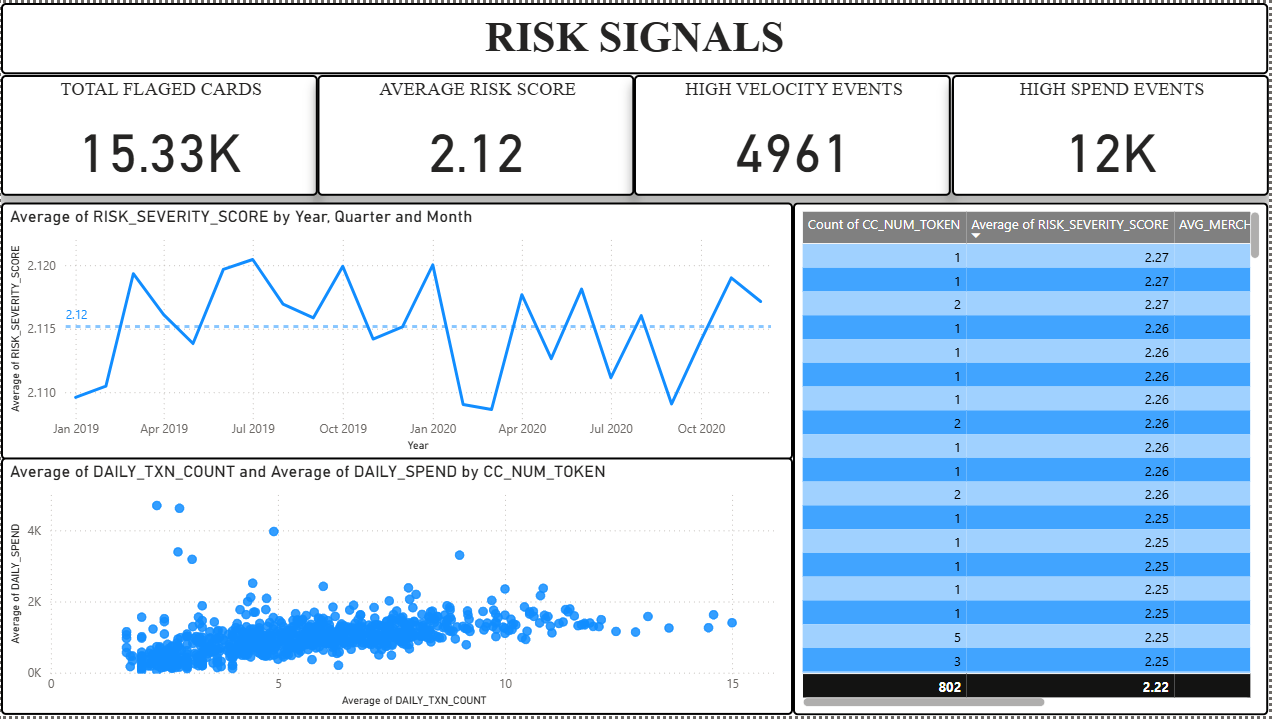

What the dashboard file says about the page in this screenshot:
{"tool":"powerbi","page":{"name":"Risk Signals","canvas":[1280,720],"ordinal":3},"visuals":[{"type":"group","id":"g1","title":"Group 1","box":[0,72,1280,122],"z":0},{"type":"card","title":"TOTAL FLAGED CARDS","fields":{"Values":["CountNonNull(MART_RISK_SIGNALS.CC_NUM_TOKEN)"]},"box":[0,72,320,122],"z":0,"group":"g1"},{"type":"textbox","box":[0,0,1280,72],"z":1000},{"type":"card","title":"AVERAGE RISK SCORE","fields":{"Values":["Avg(MART_RISK_SIGNALS.RISK_SEVERITY_SCORE)"]},"box":[320,72,320,122],"z":1000,"group":"g1"},{"type":"card","title":"HIGH VELOCITY EVENTS","fields":{"Values":["Sum(MART_RISK_SIGNALS.HIGH_VELOCITY_FLAG)"]},"box":[640,72,320,122],"z":2000,"group":"g1"},{"type":"lineChart","fields":{"Y":["Avg(MART_RISK_SIGNALS.RISK_SEVERITY_SCORE)"],"Category":["MART_RISK_SIGNALS.TRANSACTION_DATE.Variation.Date Hierarchy.Year","MART_RISK_SIGNALS.TRANSACTION_DATE.Variation.Date Hierarchy.Quarter","MART_RISK_SIGNALS.TRANSACTION_DATE.Variation.Date Hierarchy.Month"]},"box":[0,202,800,260],"z":2000,"group":"g2"},{"type":"tableEx","fields":{"Values":["MART_RISK_SIGNALS.CC_NUM_TOKEN","MART_RISK_SIGNALS.RISK_SEVERITY_SCORE","MART_RISK_SIGNALS.AVG_MERCHANT_FRAUD_RATE","MART_RISK_SIGNALS.HIGH_VELOCITY_FLAG","MART_RISK_SIGNALS.HIGH_SPEND_FLAG"]},"box":[800,202,480,518],"z":2000},{"type":"card","title":"HIGH SPEND EVENTS","fields":{"Values":["Sum(MART_RISK_SIGNALS.HIGH_SPEND_FLAG)"]},"box":[960,72,320,122],"z":3000,"group":"g1"},{"type":"group","id":"g2","title":"Group 2","box":[0,202,800,518],"z":3000},{"type":"scatterChart","fields":{"Category":["MART_RISK_SIGNALS.CC_NUM_TOKEN"],"X":["MART_RISK_SIGNALS.DAILY_TXN_COUNT"],"Y":["MART_RISK_SIGNALS.DAILY_SPEND"],"Size":["select"]},"box":[0,460,800,260],"z":3000,"group":"g2"}]}

Visuals, with their boxes in screenshot pixels (x1, y1, x2, y2), scaled from the page's 1280x720 canvas onto the 1273x719 screenshot:
"Group 1" group: 0, 72, 1272, 194
"TOTAL FLAGED CARDS" card: 0, 72, 318, 194
textbox: 0, 0, 1272, 72
"AVERAGE RISK SCORE" card: 318, 72, 636, 194
"HIGH VELOCITY EVENTS" card: 636, 72, 955, 194
lineChart - Avg(MART_RISK_SIGNALS.RISK_SEVERITY_SCORE) x MART_RISK_SIGNALS.TRANSACTION_DATE.Variation.Date Hierarchy.Year: 0, 202, 796, 461
tableEx - MART_RISK_SIGNALS.CC_NUM_TOKEN x MART_RISK_SIGNALS.RISK_SEVERITY_SCORE: 796, 202, 1272, 718
"HIGH SPEND EVENTS" card: 955, 72, 1272, 194
"Group 2" group: 0, 202, 796, 718
scatterChart - MART_RISK_SIGNALS.CC_NUM_TOKEN x MART_RISK_SIGNALS.DAILY_TXN_COUNT: 0, 459, 796, 718
